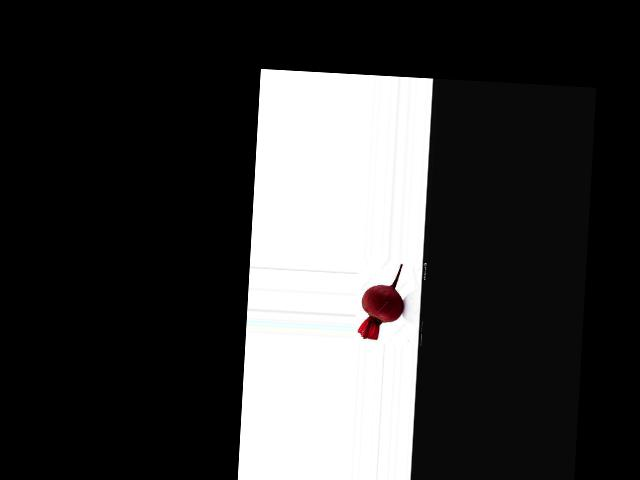beet: (358, 262, 406, 341)
